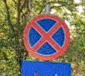oprirea_interzisa: (22, 14, 73, 62)
